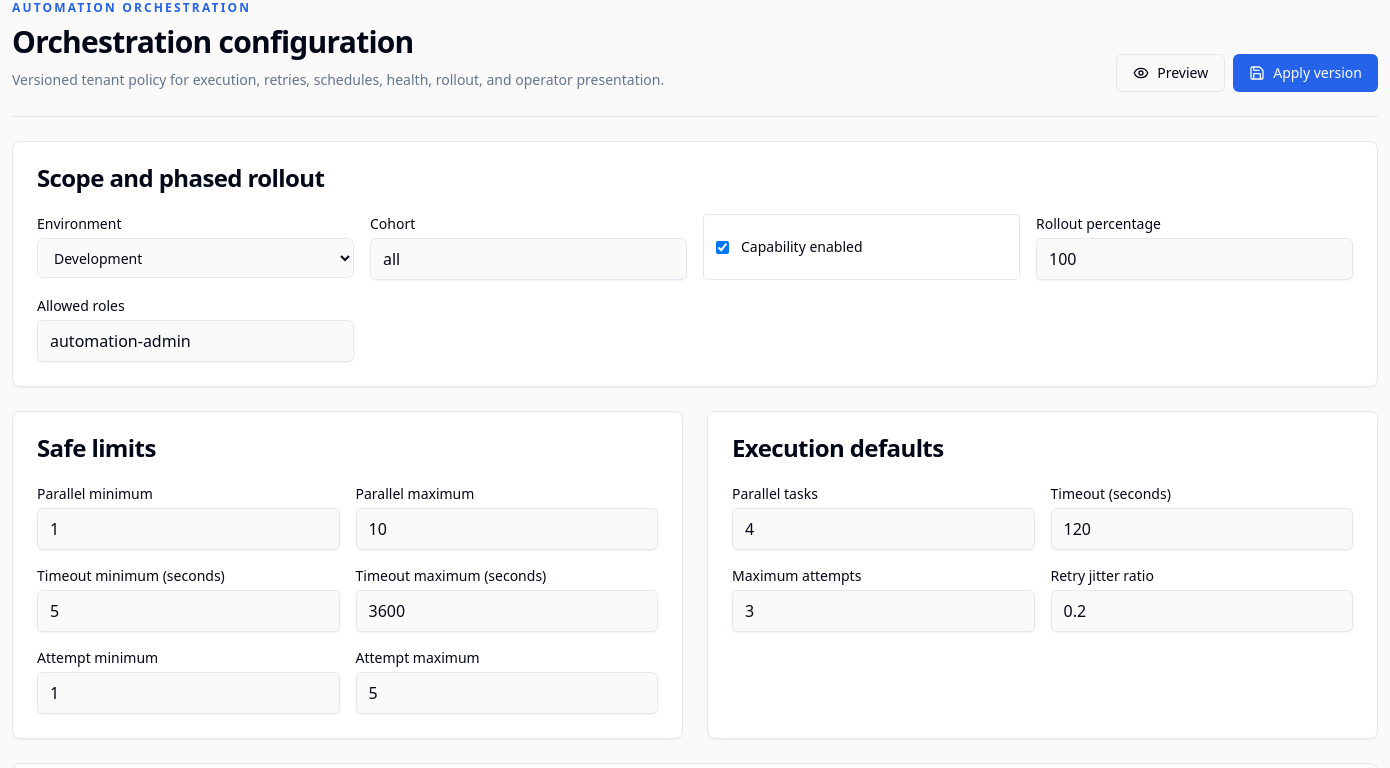
Test: automation orchestration ConfigurationPage › sends trimmed roles through preview and renders the dry-run diff
Replace the text in the field labelled "Allowed roles" with "ops, automation-admin, " at x=196, y=341, box [37,320,354,362]
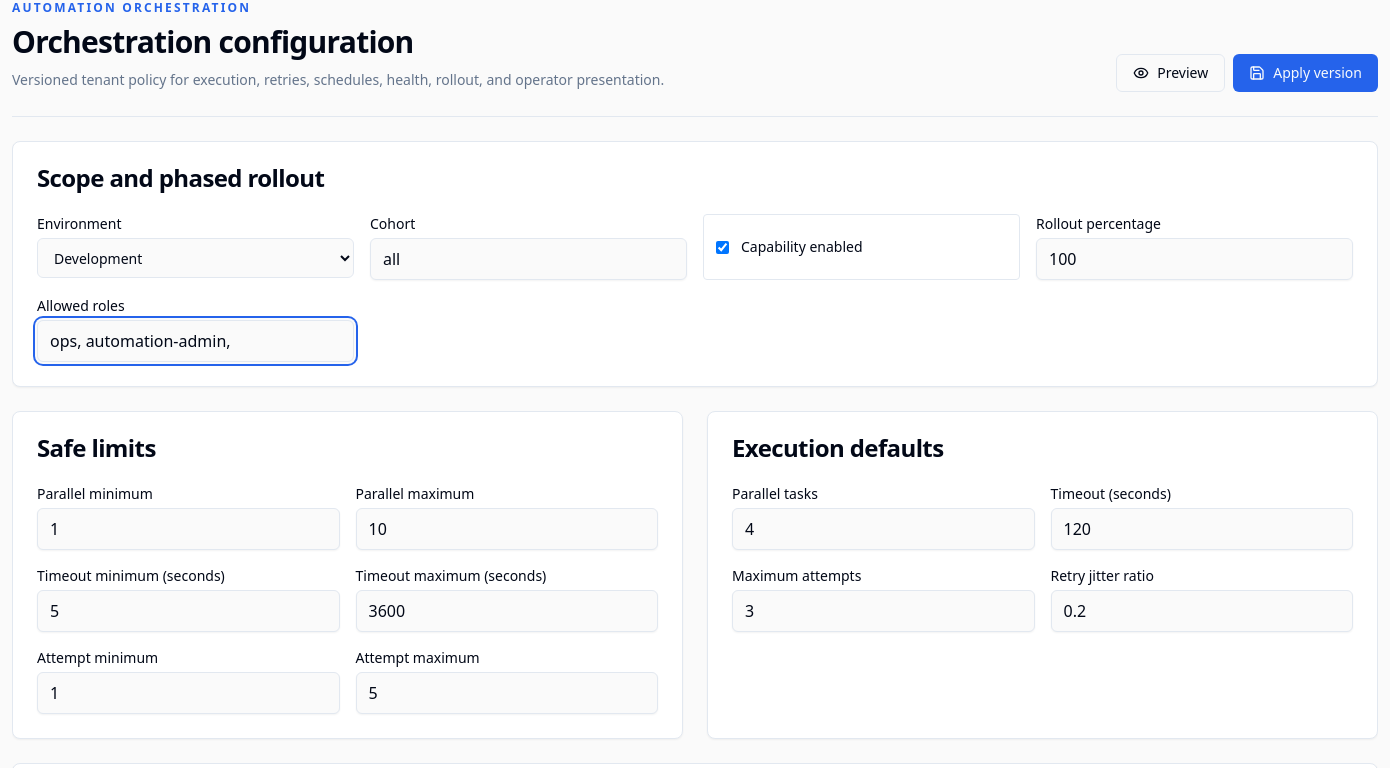
Click the button "Preview" at x=1171, y=73, box [1116,54,1225,92]
(page scrolled)
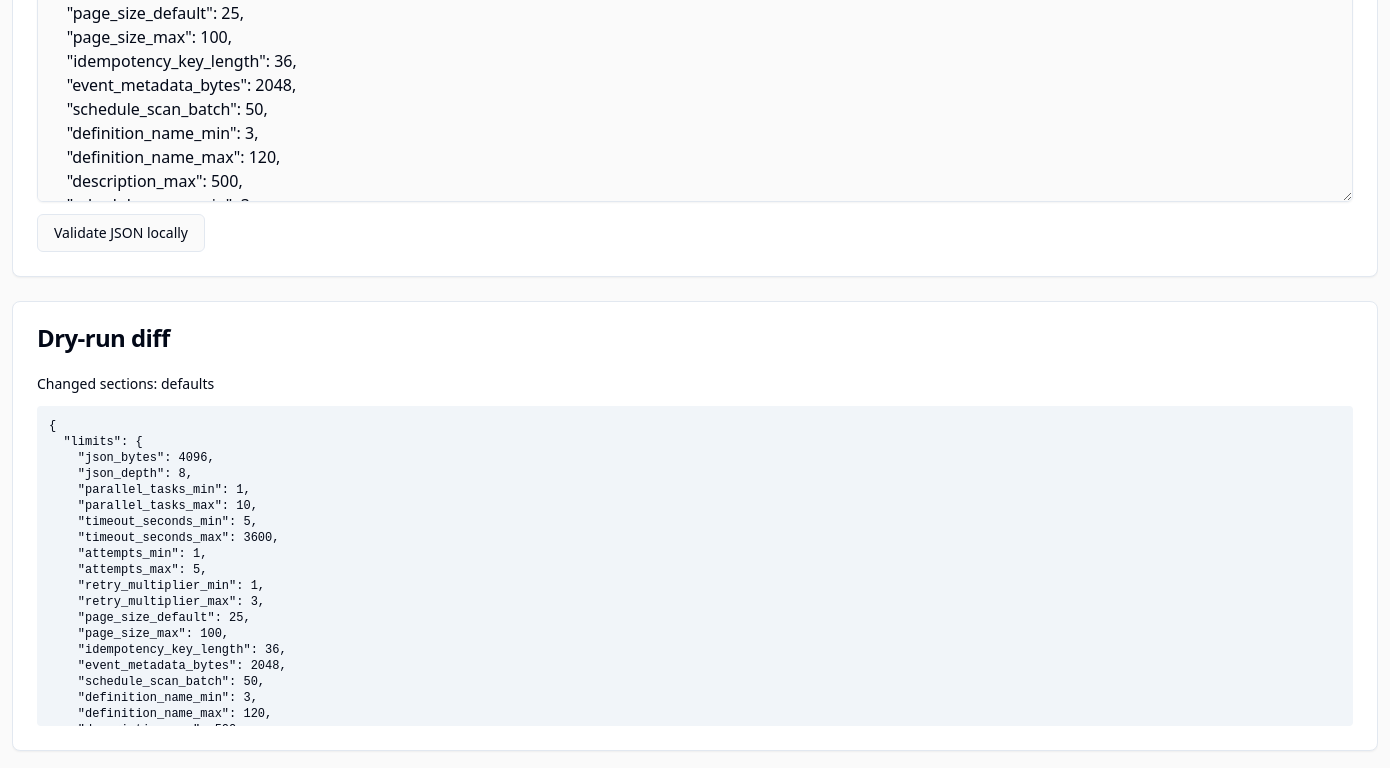
Result: the text "Changed sections: defaults" is shown at [37,374,214,393]
